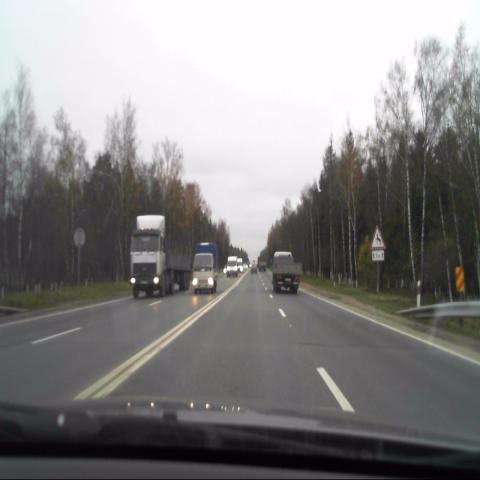1_27: (370, 225, 385, 250)
